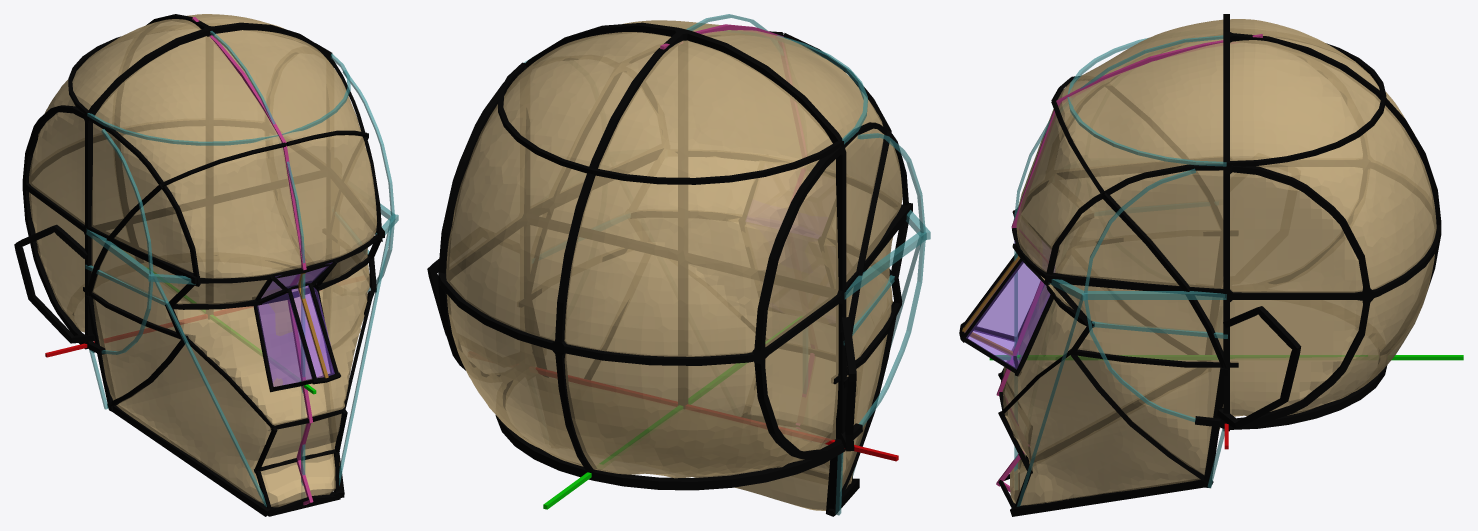
File: BonyLandmarks.glb
3 views of the same model, side by side, from view 1: azimuth 30°, elevation 25°; view 2: azimuth 150°, elevation 25°; view 3: azimuth 270°, elevation 25° (orthographic). The views are drawn at different scales.
Visible parts, largest first — view 1: Loomis_Head_Animmation.004, Sphere.041, Plane.081, Plane.034, Plane.033, Sphere.048, Sphere.044, Plane.057, Plane.044, Circle.014, Plane.047, Sphere.047 (+22 smaller); view 2: Loomis_Head_Animmation.004, Sphere.041, Circle.013, Circle.012, Plane.056, Plane.044, Sphere.048, Plane.028, Plane.057, Plane.058, Plane.047, Plane.029 (+7 smaller); view 3: Loomis_Head_Animmation.004, Sphere.041, Plane.081, Plane.033, Plane.044, Plane.056, Plane.057, Circle.012, Sphere.048, Sphere.044, Plane.058, Circle.013 (+13 smaller).
Boxes of the visible parts, x1,y1,x2,y2 form: Loomis_Head_Animmation.004: (29,14,376,507); Sphere.041: (22,14,333,354); Plane.081: (257,262,334,386); Plane.034: (153,219,393,506); Plane.033: (108,382,344,516); Sphere.048: (101,70,394,354); Sphere.044: (89,58,382,286); Plane.057: (14,224,95,343); Plane.044: (86,167,384,284); Circle.014: (87,53,350,145); Plane.047: (85,237,331,411); Sphere.047: (172,254,370,309); Loomis_Head_Animmation.004: (446,20,902,510); Sphere.041: (438,22,862,472); Circle.013: (495,380,845,490); Circle.012: (498,62,843,184); Plane.056: (531,72,891,378); Plane.044: (528,148,912,296); Sphere.048: (857,133,925,426); Plane.028: (536,367,898,461); Plane.057: (427,259,856,451); Plane.058: (584,301,896,514); Plane.047: (528,301,847,516); Plane.029: (543,316,801,509); Loomis_Head_Animmation.004: (1002,19,1436,505); Sphere.041: (1195,14,1441,431); Plane.081: (964,240,1054,369); Plane.033: (1010,368,1208,516); Plane.044: (1045,157,1225,297); Plane.056: (1101,86,1226,367); Plane.057: (1217,306,1301,429); Circle.012: (1226,37,1386,167); Sphere.048: (1084,168,1195,422); Sphere.044: (1044,46,1223,284); Plane.058: (1068,288,1213,485); Circle.013: (1227,351,1387,429).
Bounding box in the file's own units: 1.98 × 2.37 × 2.34.
